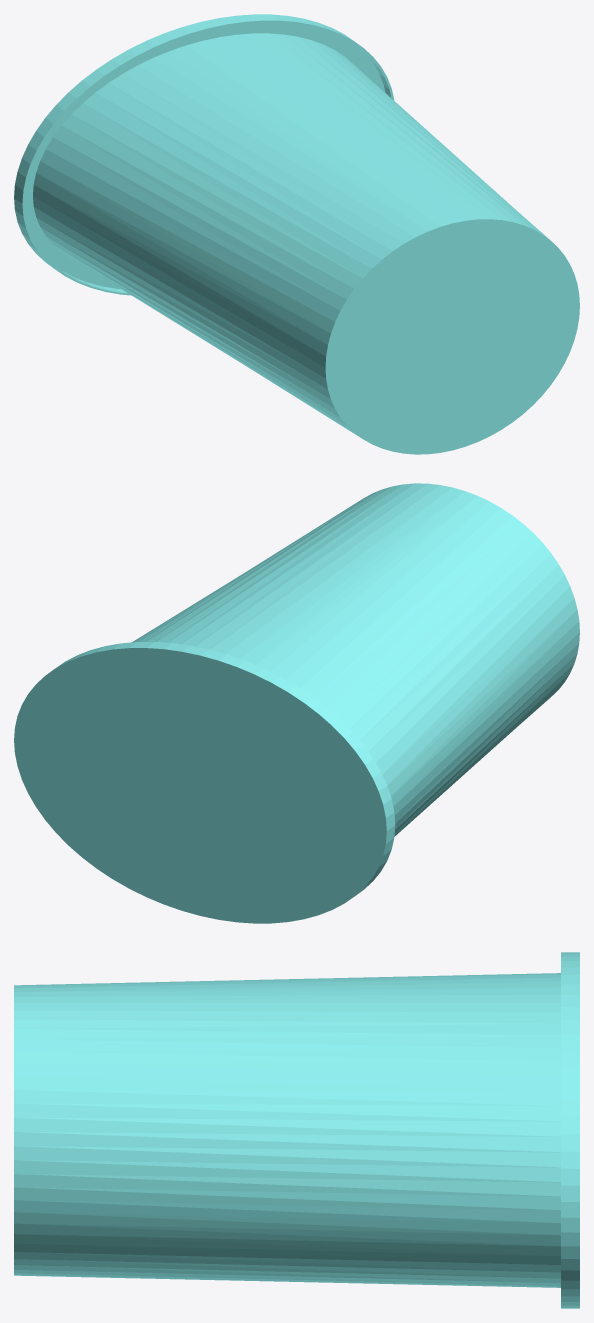
3 views of the same model, one above another, from view 1: azimuth 30°, elevation 25°; view 2: azimuth 150°, elevation 25°; view 3: azimuth 270°, elevation 25° (orthographic). The views are drawn at different scales.
Bounding box in the file's own units: 153 × 102 × 179.
